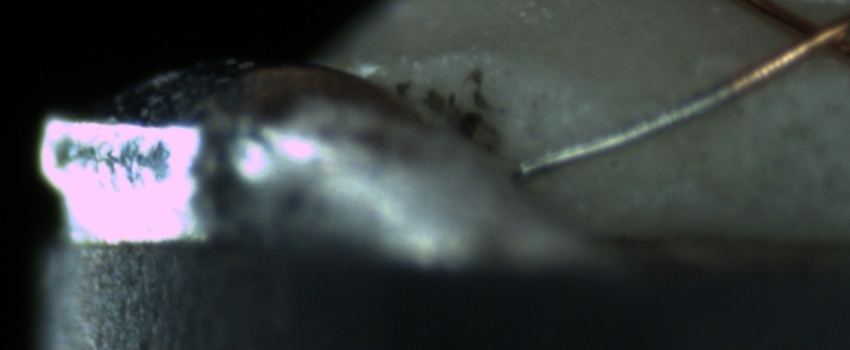CL: (763, 2, 848, 70)
TS: (520, 77, 737, 173)
